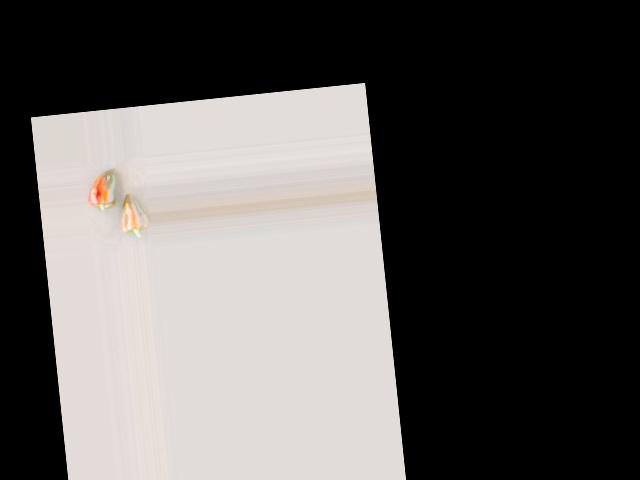bell_pepper: (83, 165, 122, 226)
